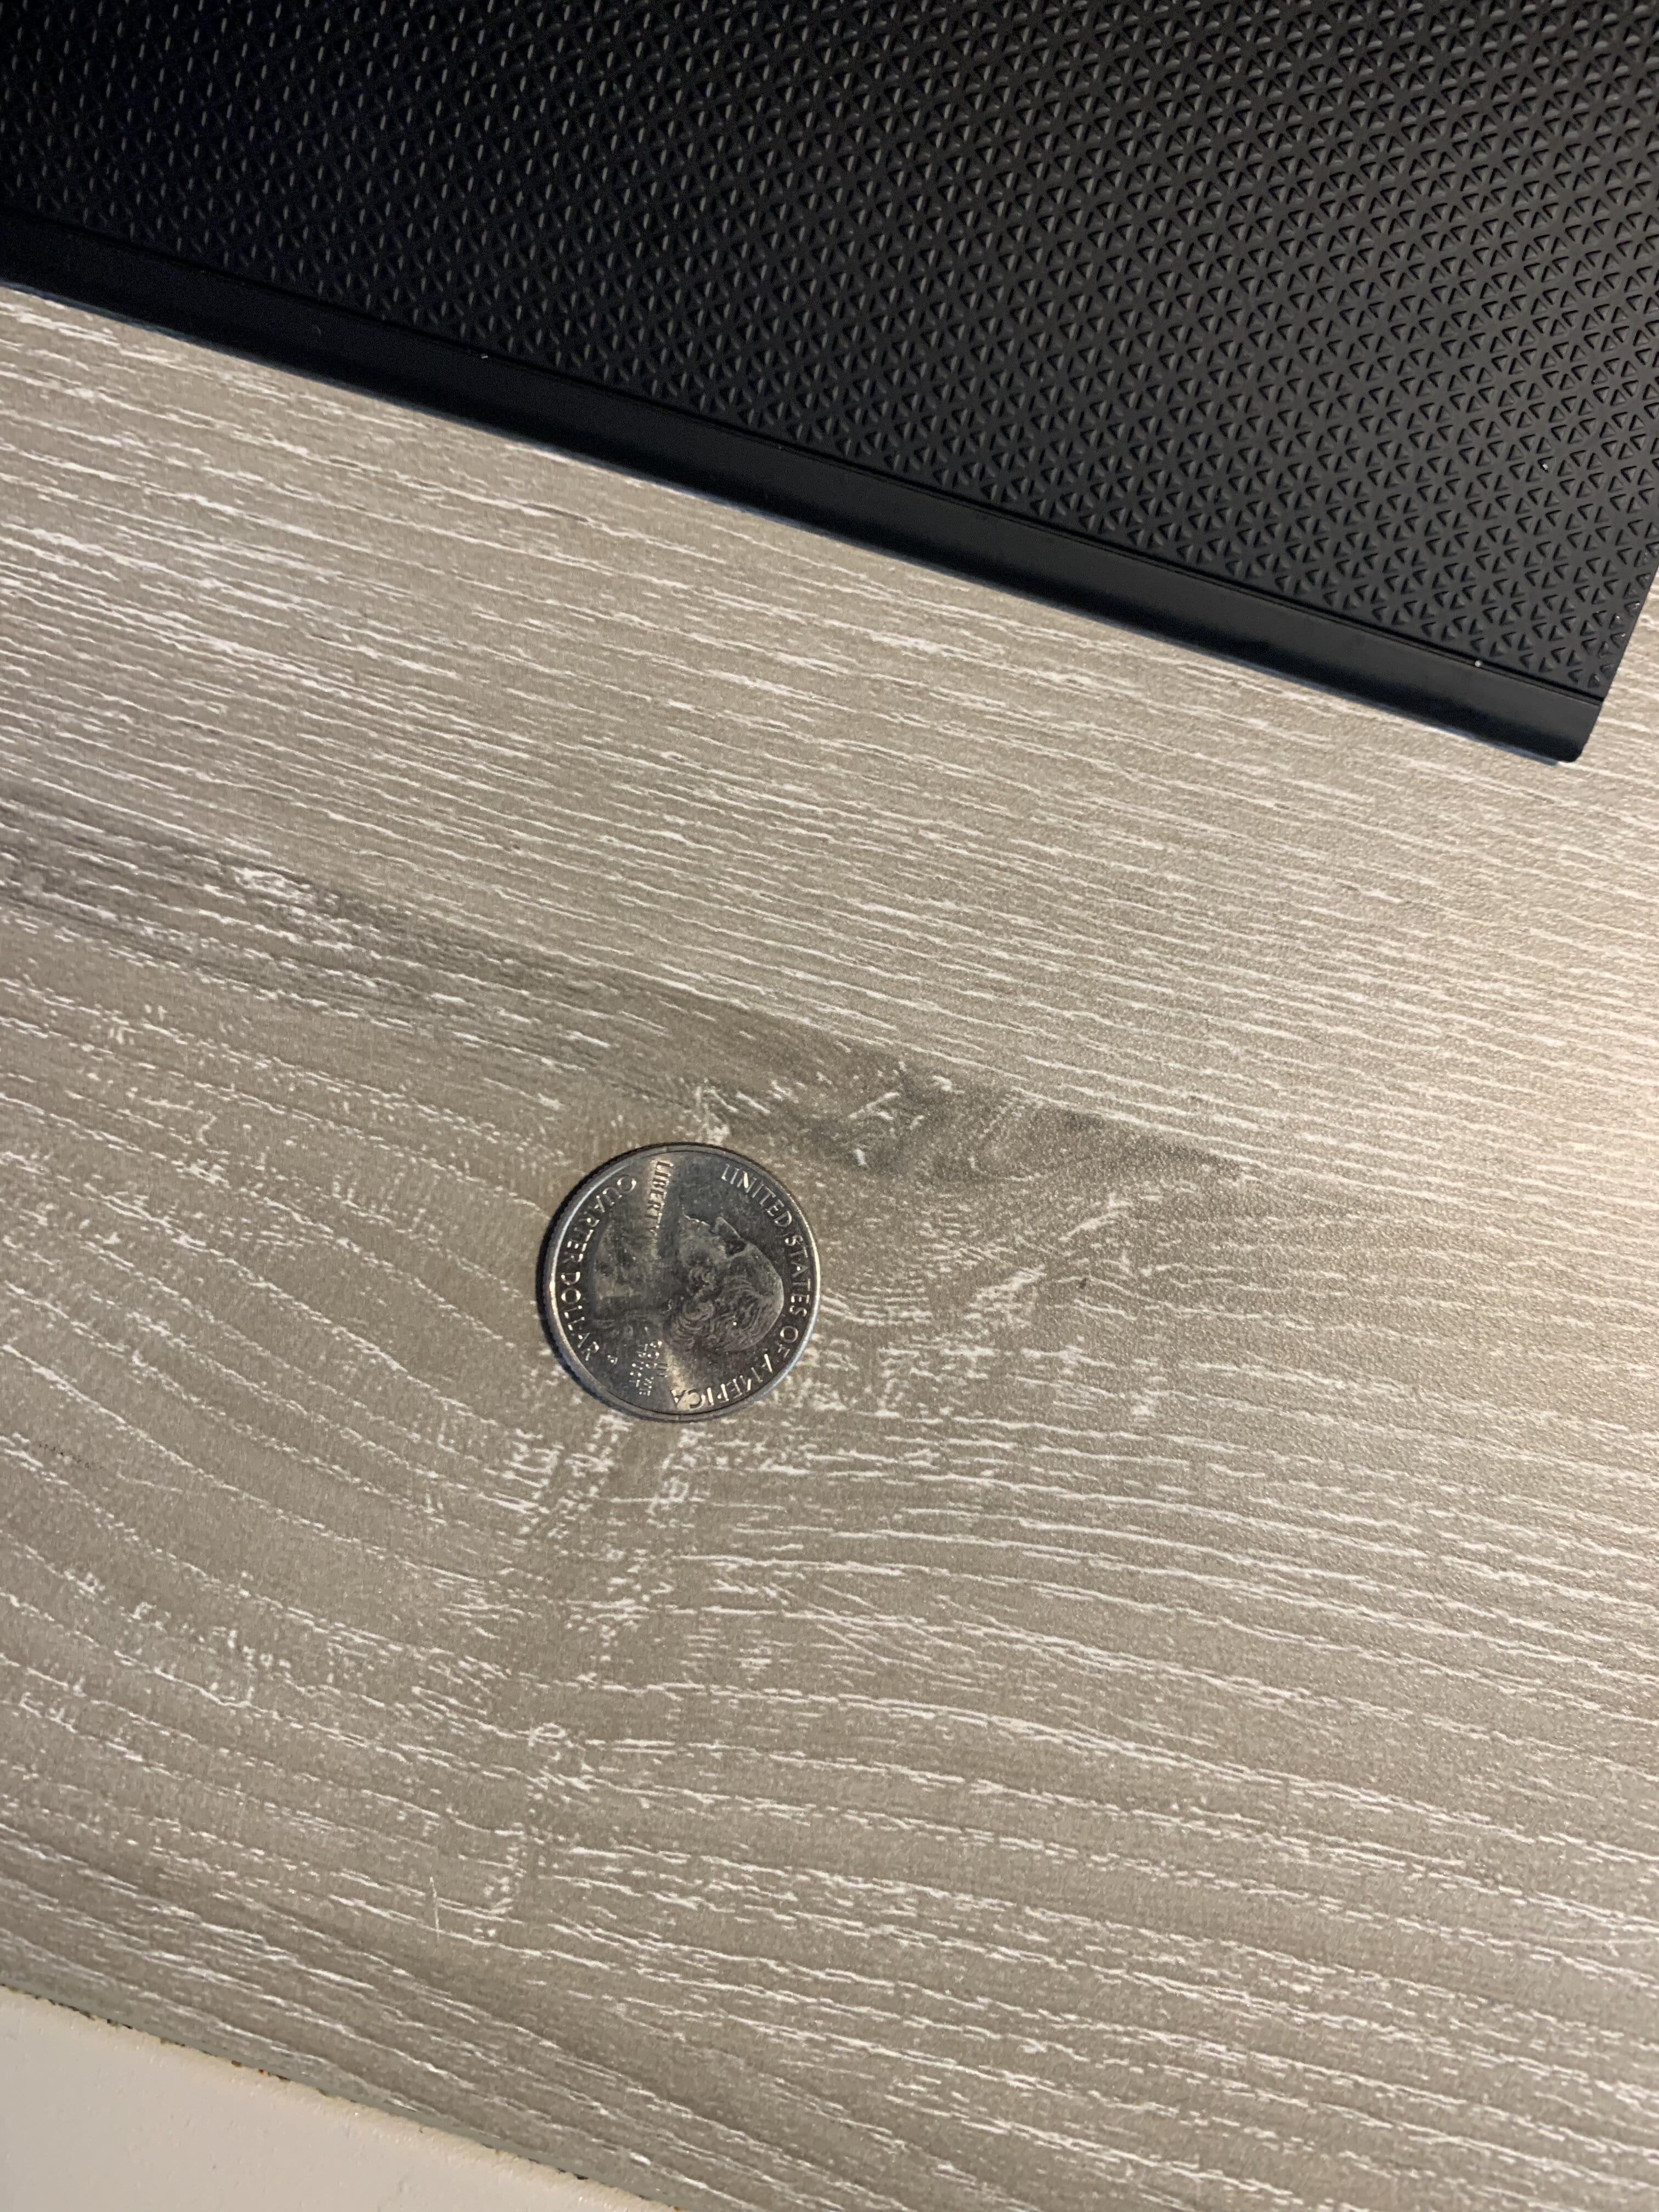Quarter: (498, 1103, 843, 1470)
